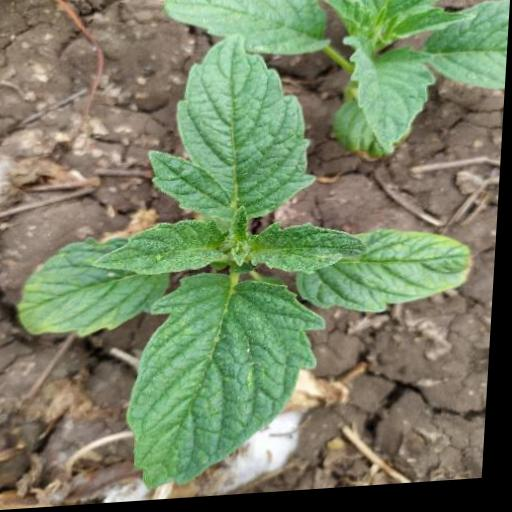crop: (10, 34, 491, 495), (142, 0, 511, 188)
